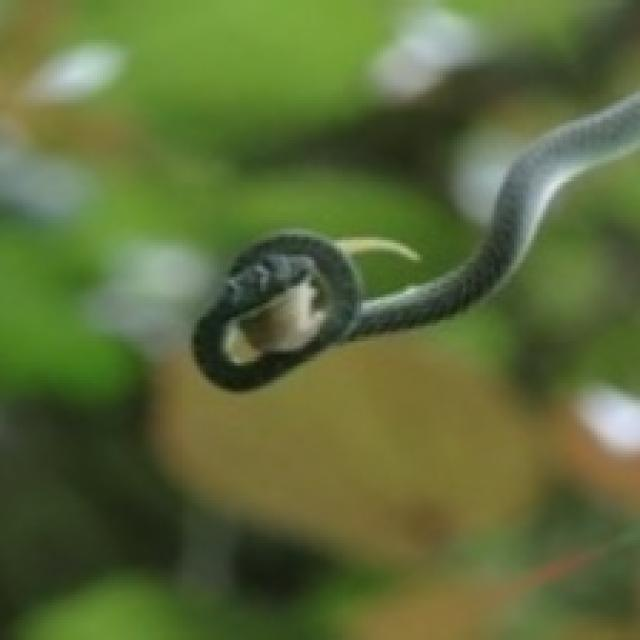paradise tree snake: (303, 80, 554, 214), (500, 174, 637, 386), (280, 169, 417, 234)
